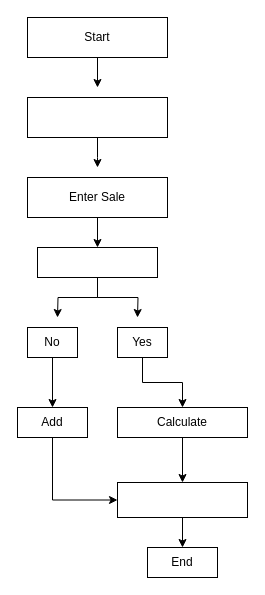
Some shapes in this 265 by 595 pixel diagram are drawn without their labels. Here are the shapes that lost their labels. From the top down, the centre of each, then its label:
[97,117]: Enter Name
[97,262]: It's Done?
[182,500]: Output
